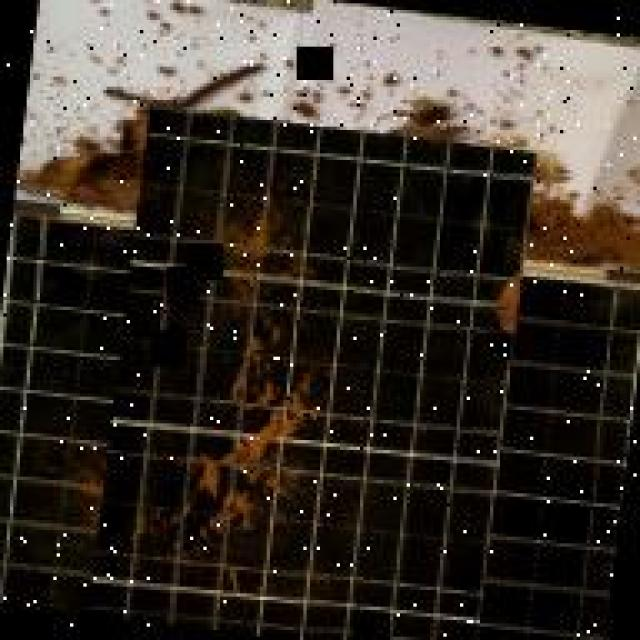dust-solar-panel: (0, 109, 640, 640)
